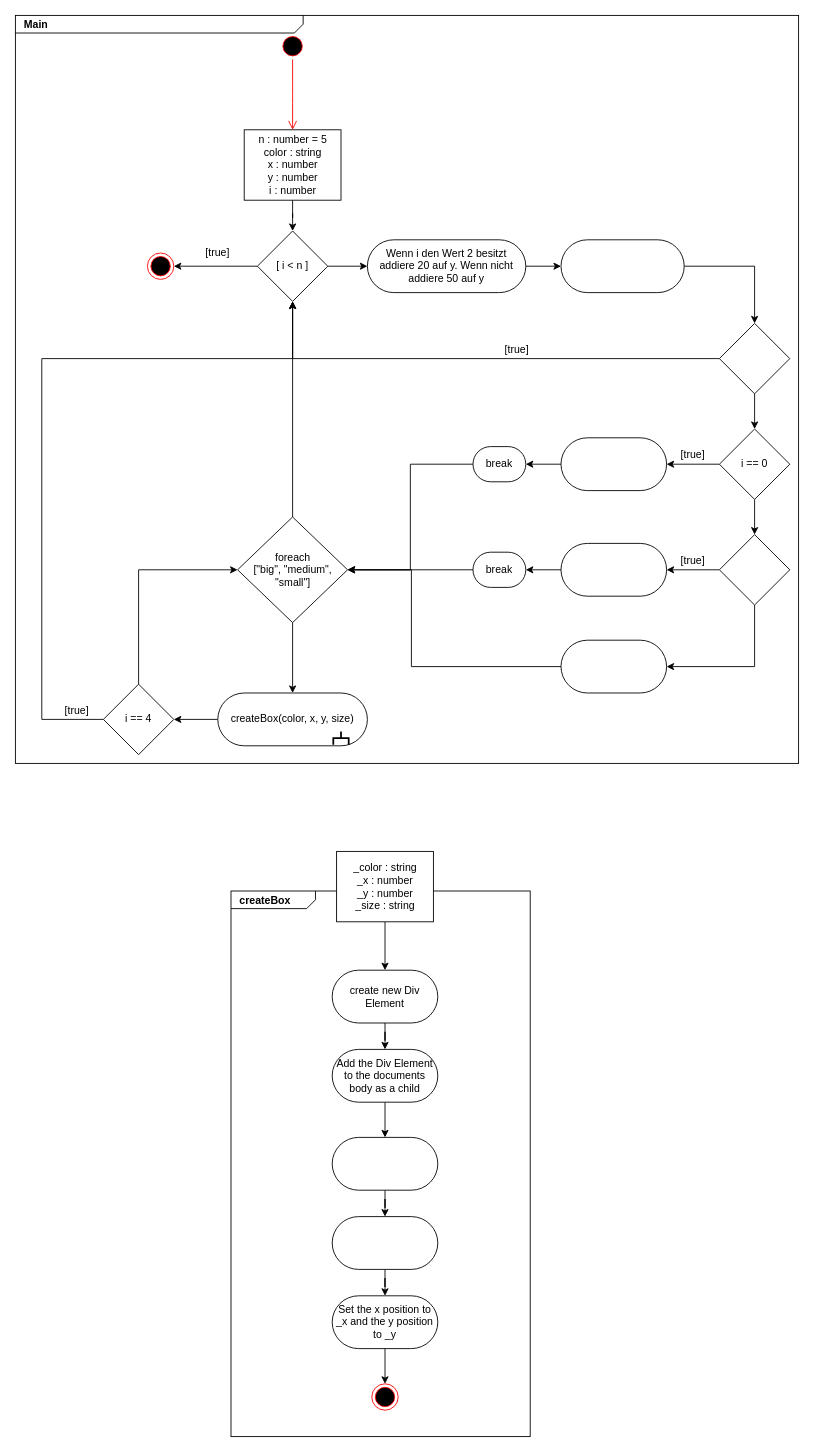
This 814x1452 diagram has some shape labels left out. Here are the shapes that lost their labels. From the top down, the centre of each, then its label:
[622,266]: x = (x + 170) % 400
[754,358]: i == 3
[613,464]: Setze die Farbe auf #ff0000
[613,569]: Setze die Farbe auf #00ff00
[754,569]: i == 1 || i == 4
[613,666]: Setze die Farbe auf #0000ff
[384,1163]: Add _size to the class list of the Div
[384,1242]: Set the Elements background to _color
